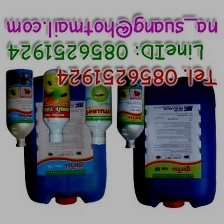insecticide: (19, 70, 112, 208), (126, 73, 219, 211), (4, 66, 37, 148), (115, 70, 147, 150), (41, 66, 73, 144), (82, 69, 114, 144)
